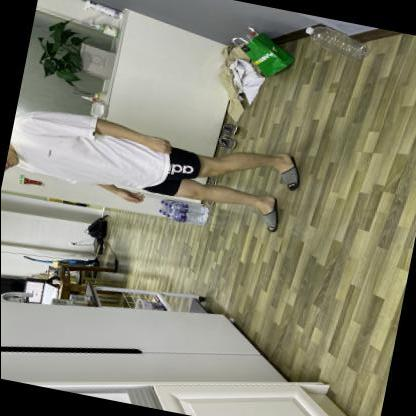no_safety-shoe: (244, 192, 286, 241)
